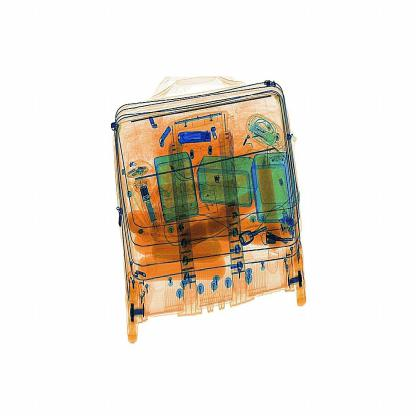knife: (170, 114, 219, 150)
